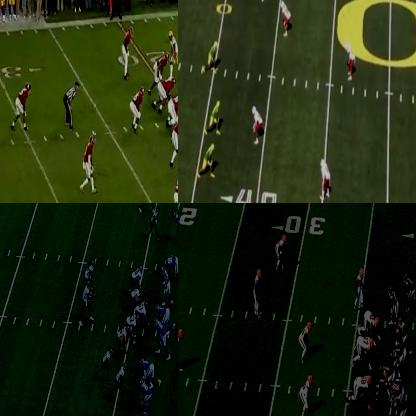CENTER: (379, 362, 393, 394), (137, 300, 150, 332)
DB: (122, 26, 134, 80), (17, 81, 30, 129), (83, 136, 93, 191), (251, 106, 263, 144), (320, 157, 330, 197), (275, 235, 286, 270), (141, 381, 152, 415), (256, 268, 263, 320), (357, 268, 365, 310), (347, 40, 355, 75), (178, 328, 184, 374), (173, 168, 177, 202), (174, 210, 177, 243)
LB: (130, 85, 146, 133), (155, 317, 170, 358), (300, 374, 314, 415), (300, 321, 313, 364), (150, 54, 168, 81), (281, 0, 293, 37), (161, 269, 171, 302), (174, 114, 177, 166)
QB: (80, 282, 94, 322)
SKILL: (166, 31, 177, 75), (404, 271, 415, 307), (207, 40, 218, 75), (115, 366, 126, 400), (388, 286, 401, 314), (210, 97, 220, 131), (204, 144, 214, 177), (102, 348, 112, 380), (150, 209, 160, 240), (85, 258, 96, 280), (141, 203, 154, 211)
